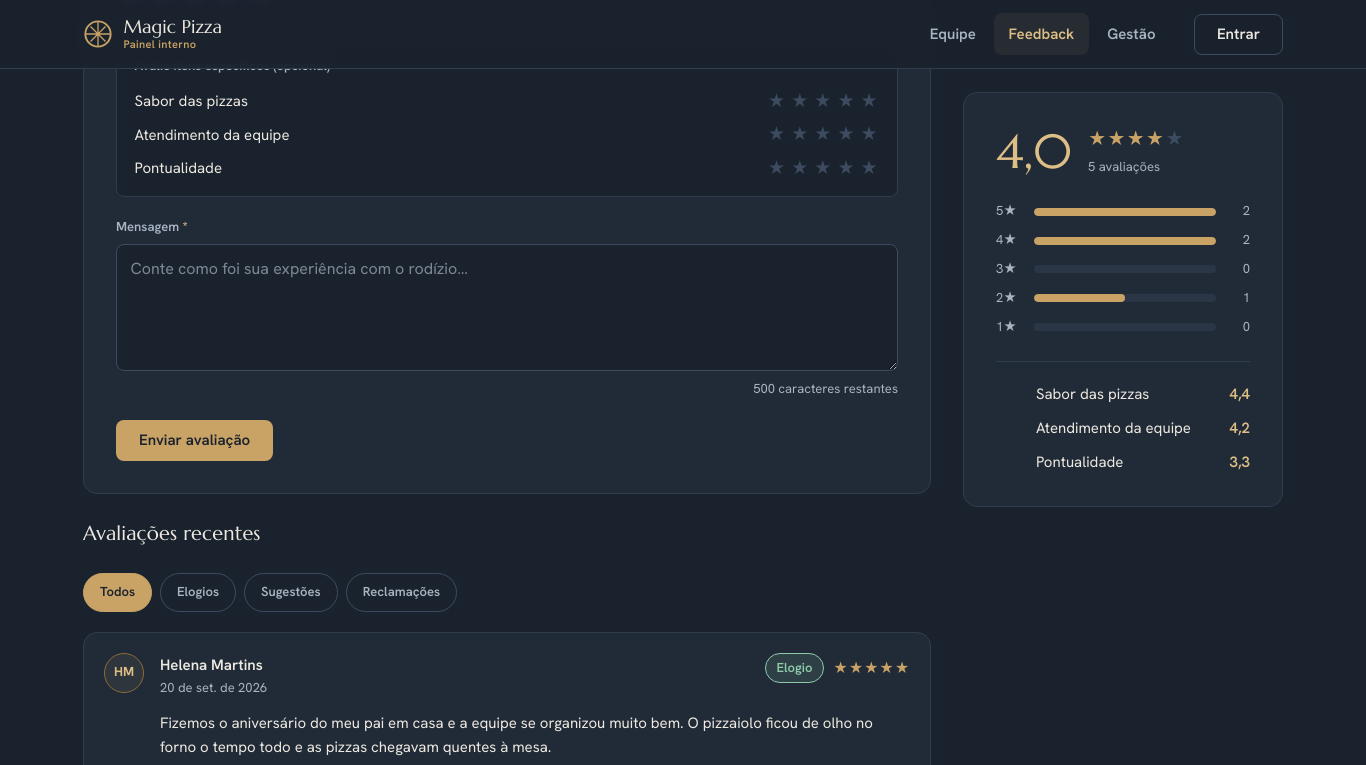
Test: Aba de Feedback › exige nota e mensagem antes de enviar
The width and height of the screenshot is (1366, 765).
(page scrolled)
expect the text "Helena Martins" is shown: met, box [160,653,267,677]
Click the button "Enviar avaliação".
click(195, 440)  # box [116,420,273,461]
(page scrolled)
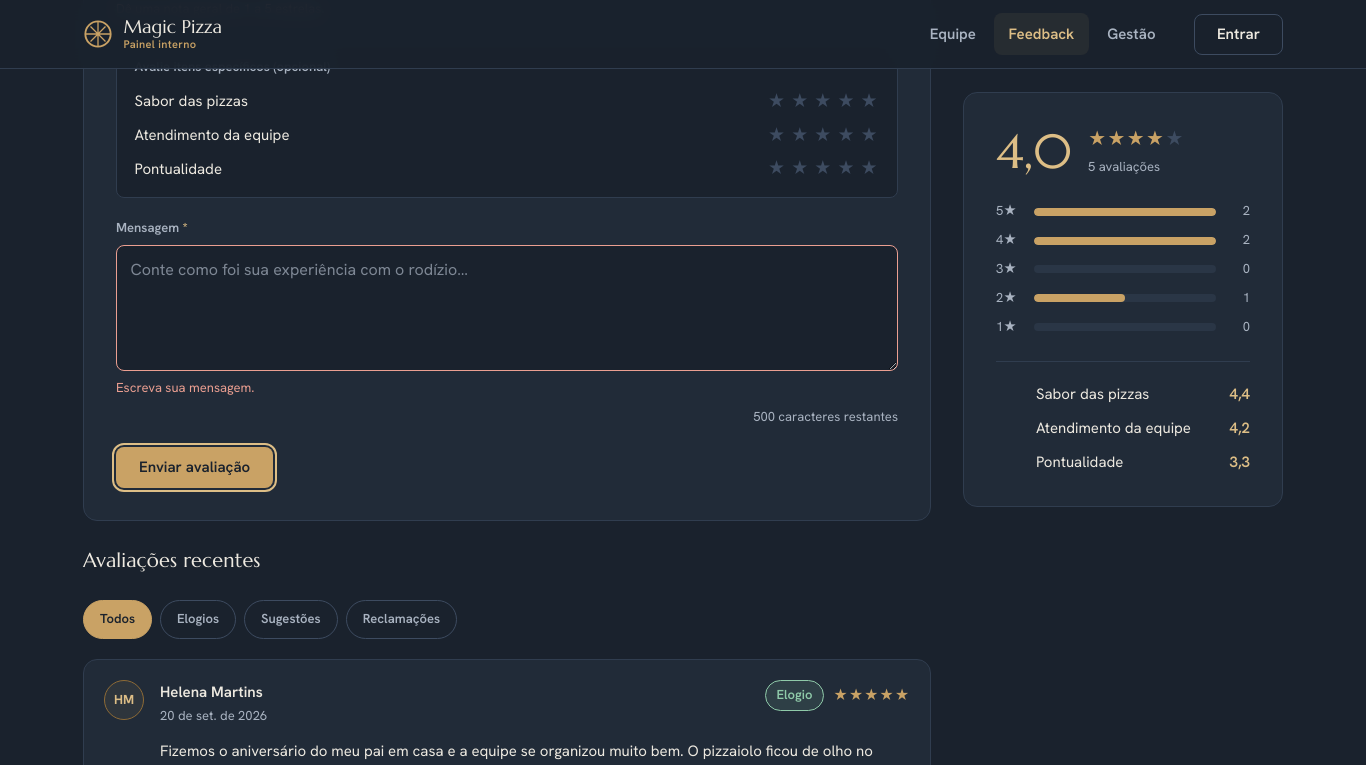
expect the text "Escreva sua mensagem." is shown: met, box [116,379,254,396]
